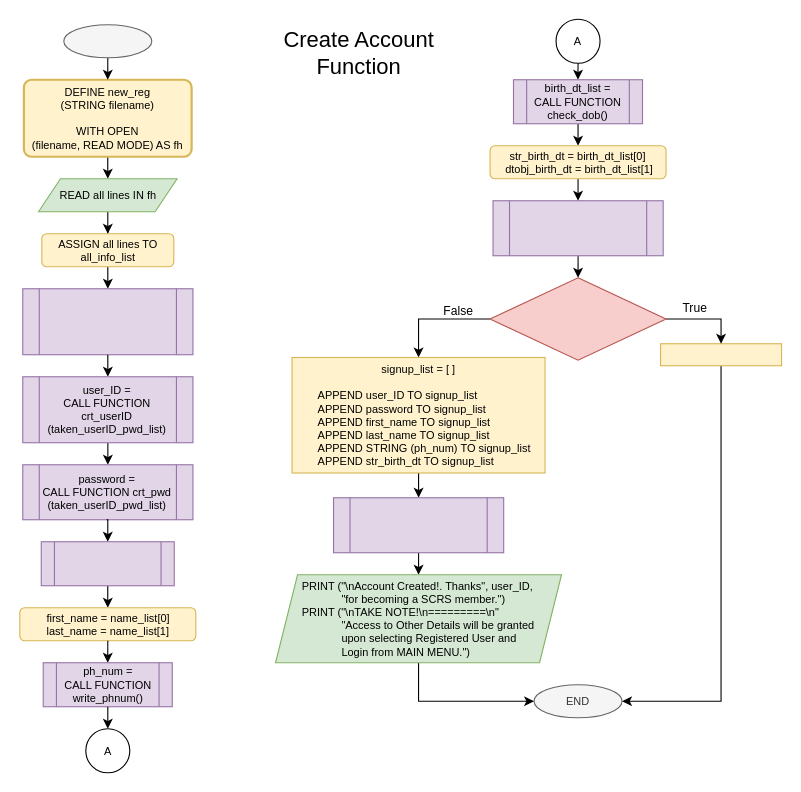
The diagram is 801 pixels wide and 792 high, and some of its shapes have lost their labels. The shapes that lost their labels are listed below. From the top down, each one's centre as x and y in pixels, then its label:
(107,41): BEGIN
(577,228): legal_age = CALL FUNCTION check_age(dtobj_birth_dt)
(107,321): taken_userID_pwd_list = CALL FUNCTION collect_userID_pwd (all_info_list)
(577,318): IF (legal_age == "NotLegal")
(720,354): RETURN "SignUpFail"
(418,525): CALL FUNCTION append_info_to_file (filename, signup_list)
(107,563): name_list = CALL FUNCTION write_name()
